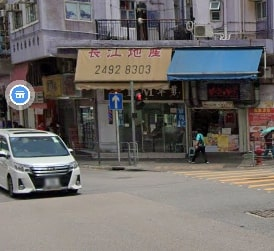One Way Traffic: (107, 94, 122, 110)
